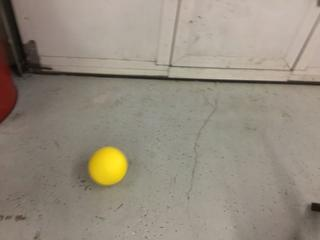power_cell: (85, 144, 130, 187)
